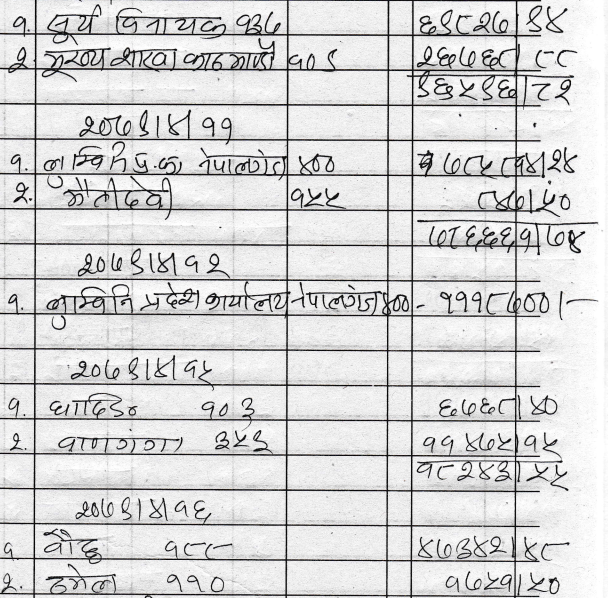text: (426, 221, 587, 259), (42, 143, 186, 185), (415, 526, 570, 563), (414, 458, 571, 493), (71, 245, 231, 279), (73, 109, 236, 141), (68, 353, 214, 386), (438, 143, 584, 173), (66, 493, 217, 522), (413, 427, 558, 457), (63, 182, 182, 218), (42, 284, 137, 329), (111, 6, 231, 40), (437, 285, 555, 317), (434, 389, 559, 419), (51, 429, 188, 456), (288, 278, 380, 318), (183, 39, 278, 77), (438, 567, 561, 596), (194, 143, 286, 177), (471, 183, 574, 213), (204, 280, 290, 315), (418, 5, 511, 37), (415, 42, 514, 70), (43, 563, 121, 598), (49, 392, 140, 420), (41, 46, 105, 83), (38, 526, 102, 563), (140, 280, 201, 317), (47, 3, 103, 43), (109, 46, 182, 74), (208, 426, 278, 455), (198, 392, 259, 423), (164, 570, 231, 596), (288, 181, 345, 211), (236, 7, 285, 41), (285, 47, 340, 76), (523, 2, 571, 34), (158, 541, 232, 561), (295, 149, 342, 176), (527, 46, 577, 71), (378, 289, 415, 317), (8, 180, 34, 210), (4, 47, 31, 75), (10, 11, 32, 39), (1, 571, 25, 595), (5, 431, 27, 456), (2, 293, 24, 316), (2, 393, 21, 417), (1, 542, 18, 562), (9, 153, 22, 176)
